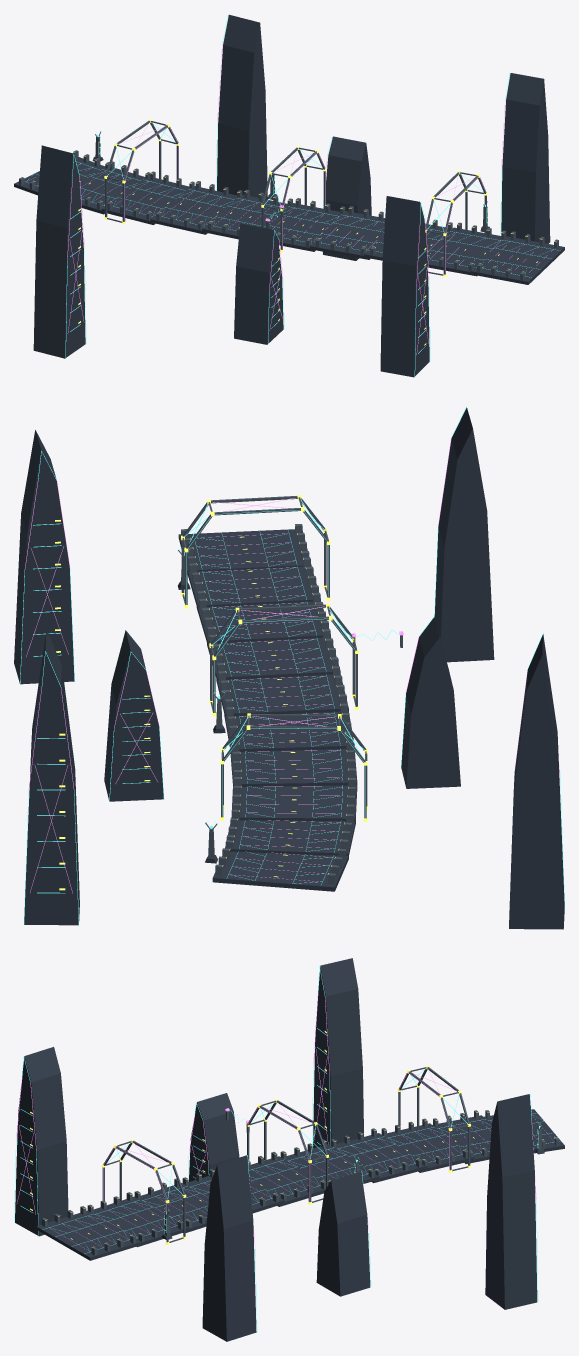
File: route_batch_12.glb
3 renders of one model, top to bottom at view 1: azimuth 30°, elevation 25°; view 2: azimuth 150°, elevation 25°; view 3: azimuth 270°, elevation 25°, orthographic. The views are drawn at different scales.
Visible parts, largest first — view 1: route_batch_12; view 2: route_batch_12; view 3: route_batch_12.
Part boxes in pixels (x1,y1,x2,y2): route_batch_12: [14, 14, 564, 377]; route_batch_12: [14, 406, 564, 929]; route_batch_12: [14, 958, 564, 1341].
Size of the model in its own units: 609 by 265 by 625.
